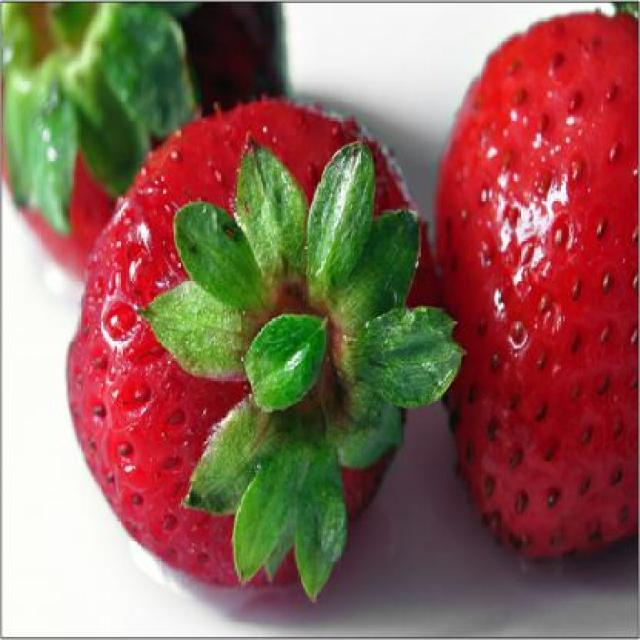Strawberry: (66, 98, 462, 586), (434, 0, 640, 560), (0, 0, 208, 282)
